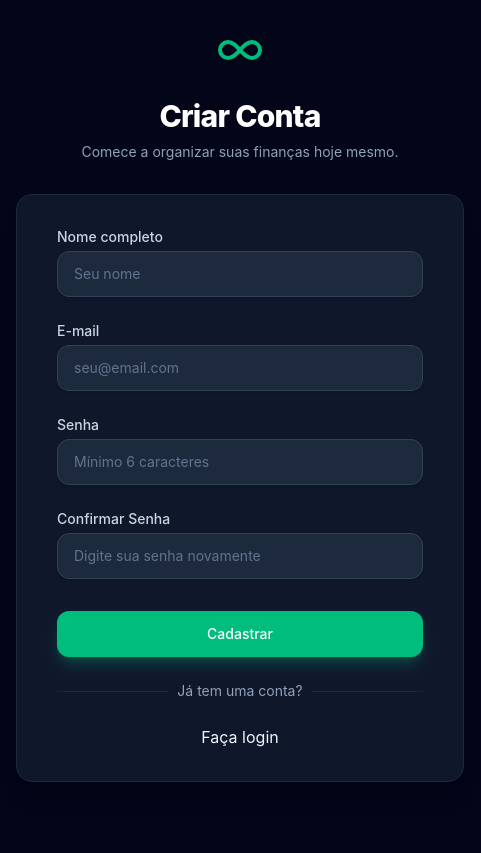
Test: SignUp Component › should show error if passwords do not match
Type "Test User" into the field with placeholder "Seu nome" at (240, 274), box [57,251,423,297]
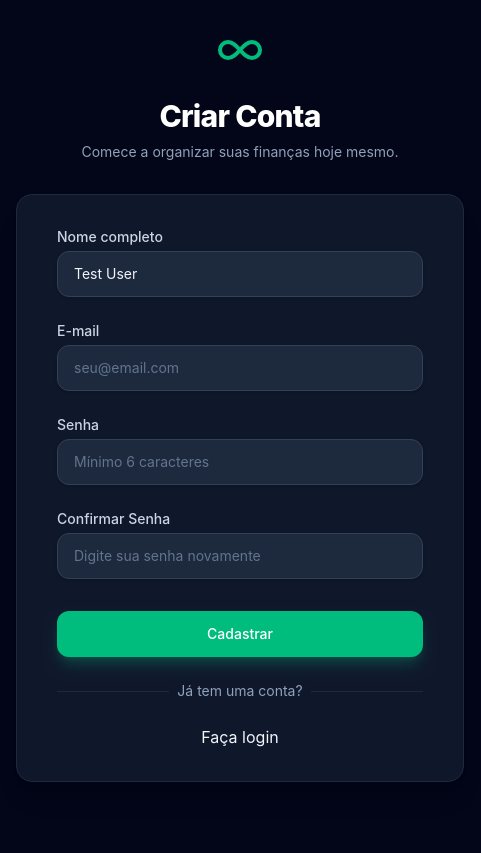
Type "test@example.com" into the field with placeholder "seu@email.com" at (240, 368), box [57,345,423,391]
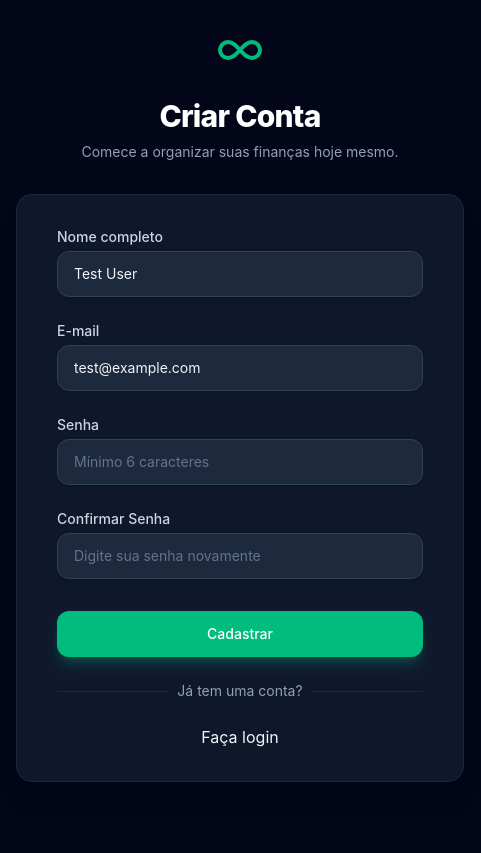
Type "password123" into the password field with placeholder "Mínimo 6 caracteres" at (240, 462), box [57,439,423,485]
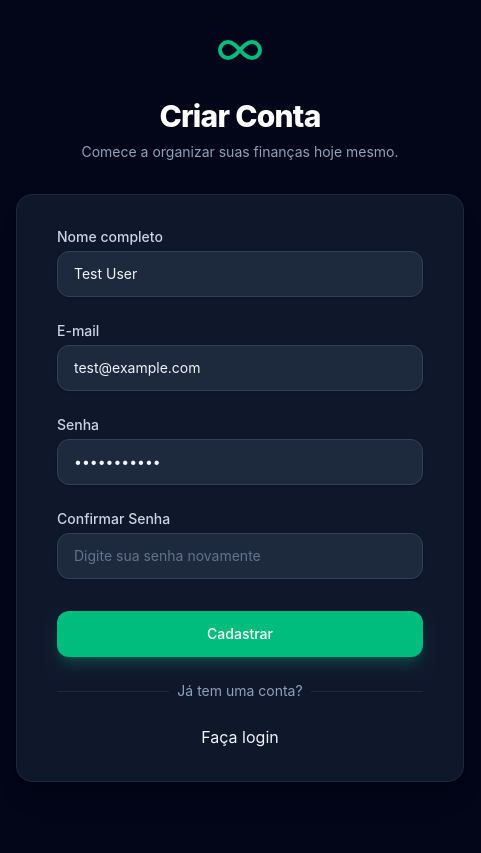
Type "password456" into the password field with placeholder "Digite sua senha novamente" at (240, 556), box [57,533,423,579]
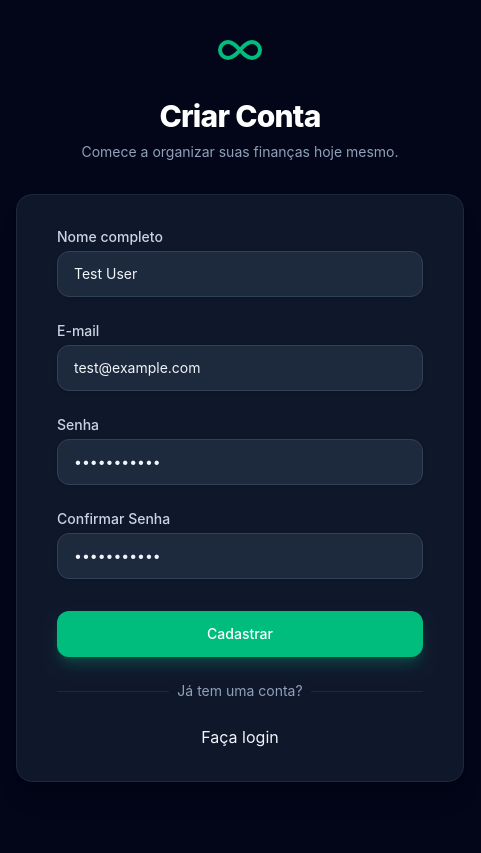
Click the button "Cadastrar" at (240, 634), box [57,611,423,657]
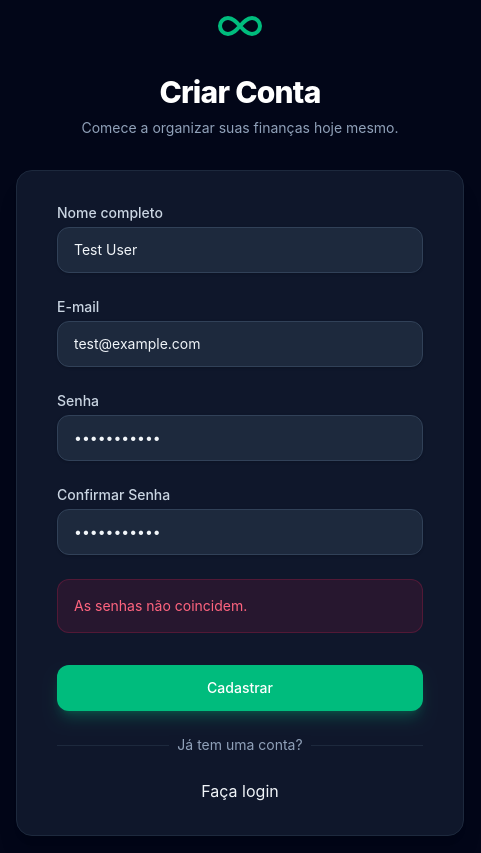
Result: the text "As senhas não coincidem." is shown at [57,579,423,633]
